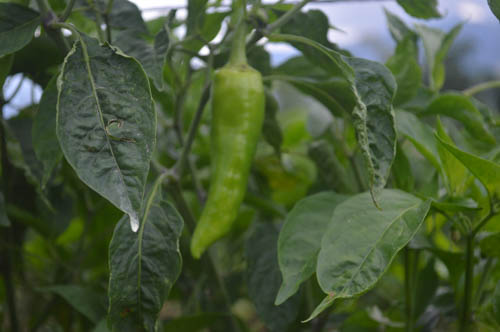ChiliPepper: (186, 69, 268, 263)
